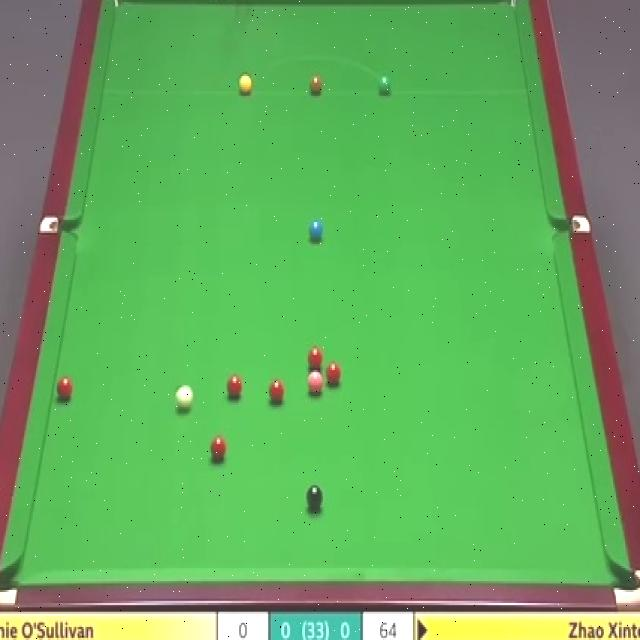black-ball: (306, 486, 322, 511)
blue-ball: (308, 221, 323, 239)
brown-ball: (308, 78, 322, 94)
green-ball: (379, 76, 392, 95)
pink-ball: (305, 371, 324, 398)
red-ball: (55, 375, 73, 402), (210, 436, 227, 461), (269, 378, 285, 402), (306, 346, 323, 368), (226, 376, 243, 396), (326, 360, 340, 384)
white-ball: (176, 384, 193, 410)
yellow-ball: (239, 74, 252, 96)
